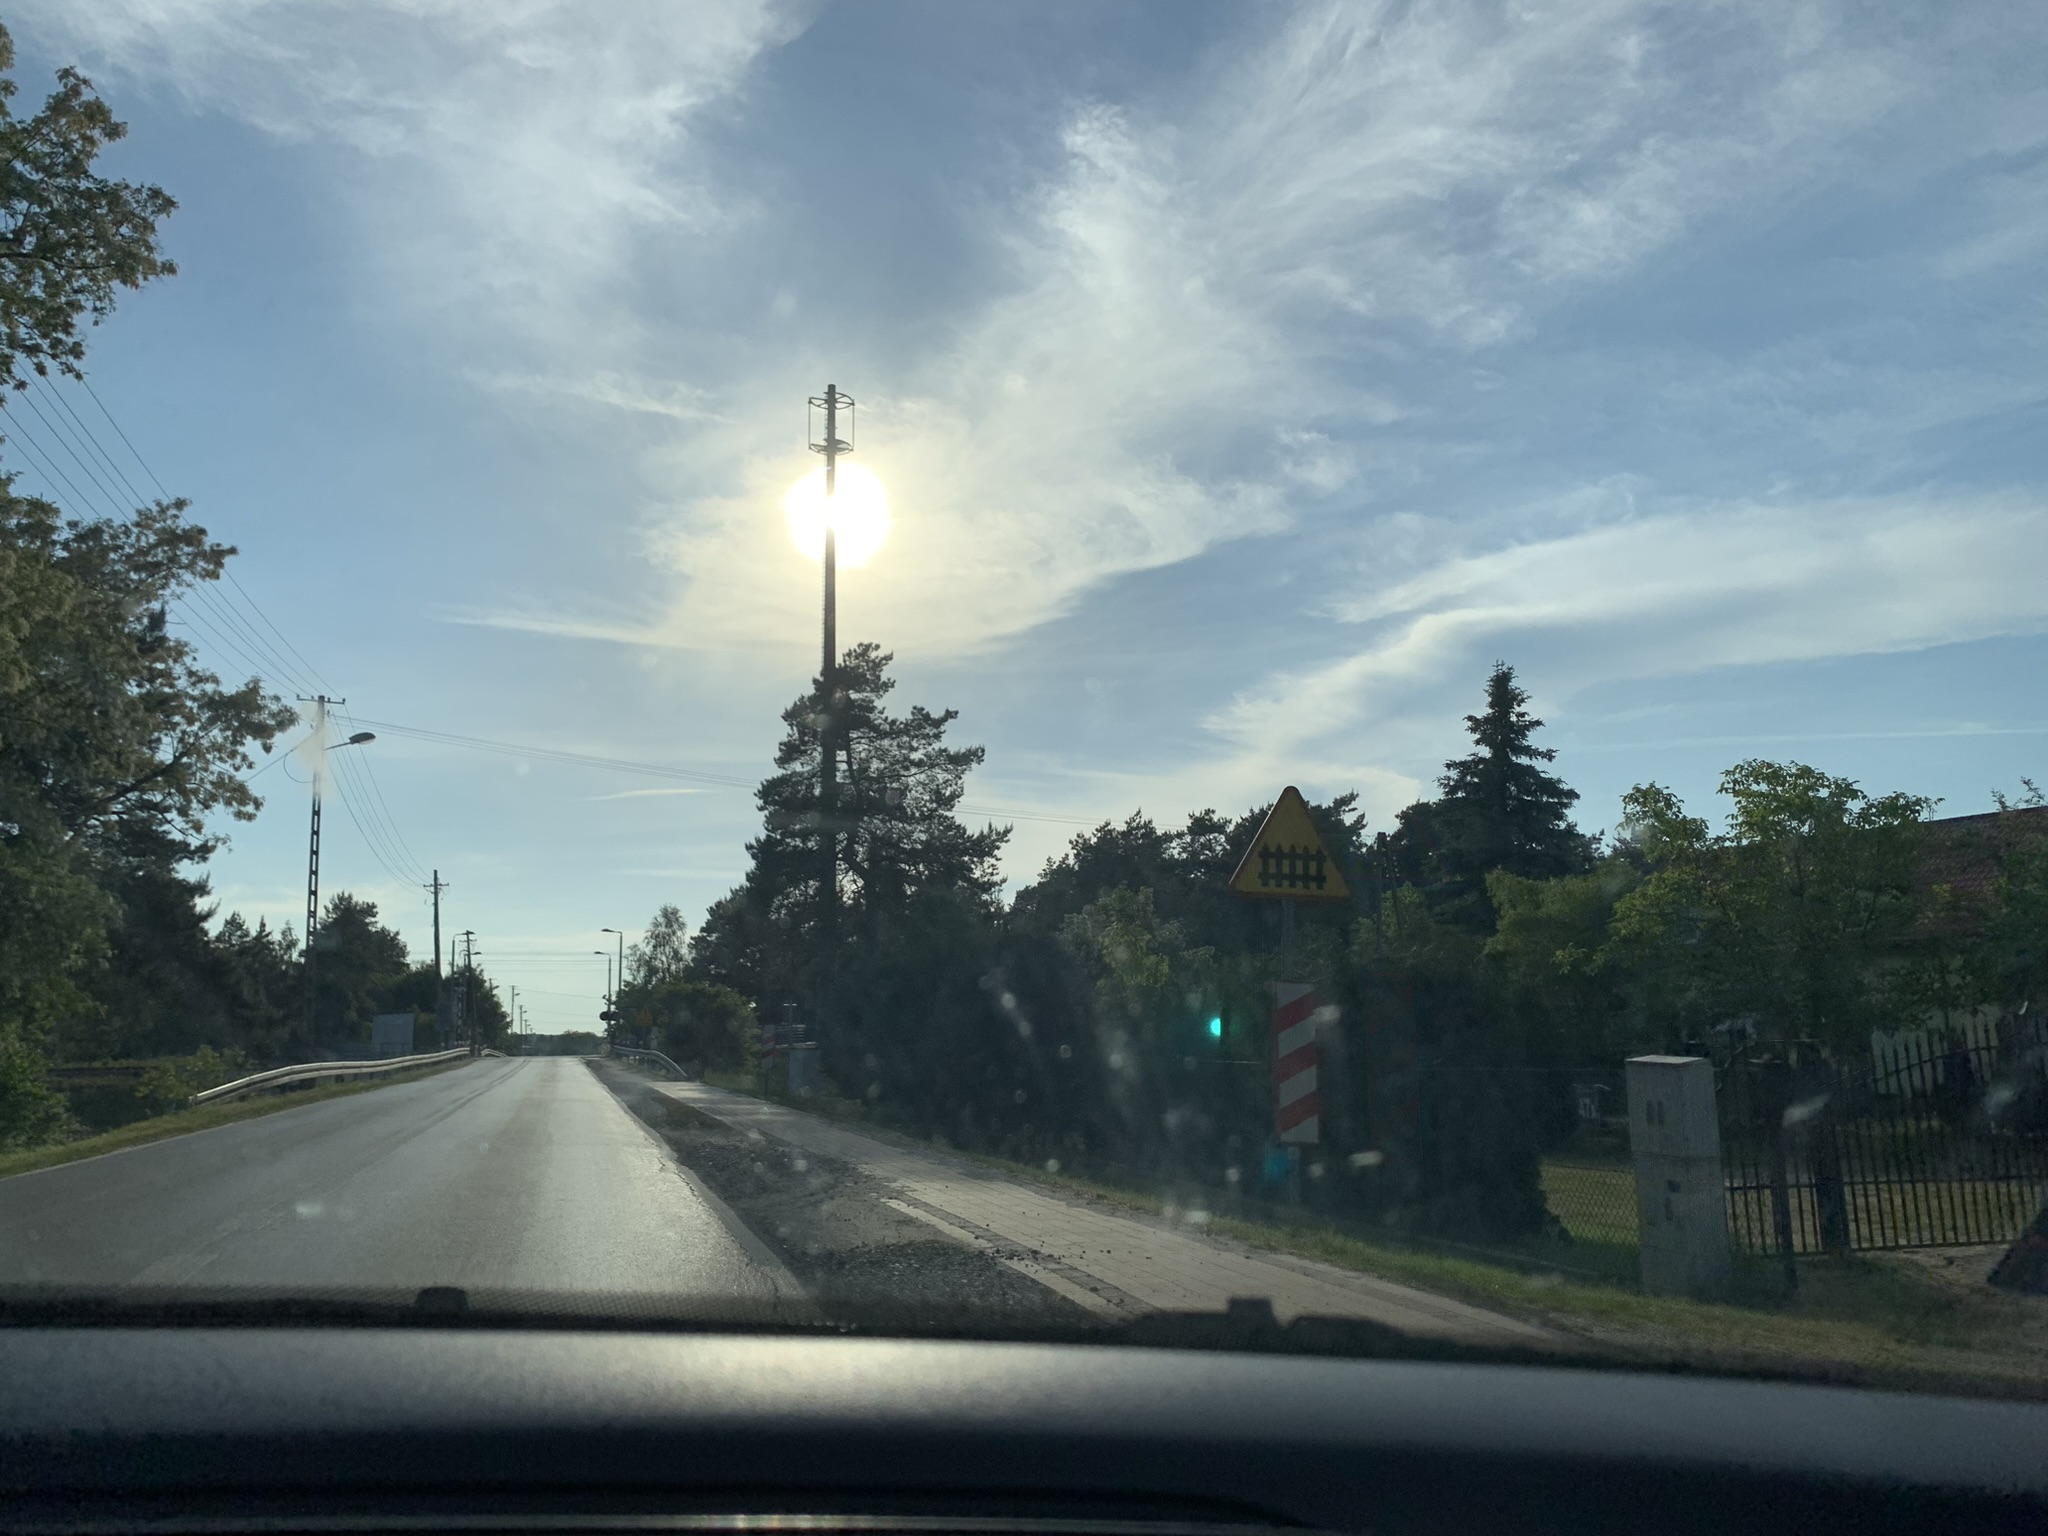a9: (1251, 839, 1332, 894)
